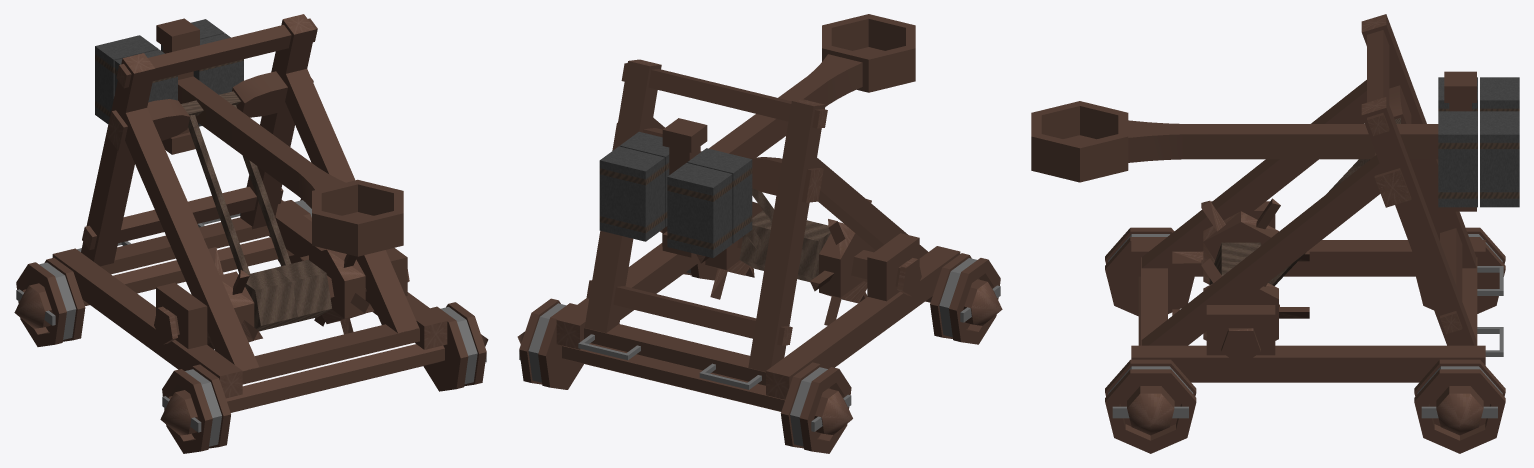
The model's file is CATAPULT.fbx.
The picture shows the model from 3 angles, left to right: view 1: azimuth 30°, elevation 25°; view 2: azimuth 150°, elevation 25°; view 3: azimuth 270°, elevation 25°; orthographic projection. The views are drawn at different scales.
Visible parts, largest first — view 1: Cube_8, Cube_11, Cube_9, Cube, Tube, Cube_6, Cylinder, Cylinder_2_5, Cylinder_4_3, Cylinder_5, Cube_1, Cube_12 (+18 smaller); view 2: Cube_6, Cube, Cube_11, Cube_7, Cube_14, Cube_16, Tube, Cylinder_4_3, Cylinder_2_5, Cylinder_1, Cube_2, Cylinder_6_3 (+14 smaller); view 3: Cube_11, Cube_5, Cube_9, Tube, Cube_7, Cylinder_8, Cylinder_6_3, Cube_8, Cube, Cube_6, Cube_14, Cube_11_4 (+14 smaller).
Boxes of the visible parts, box(x1,y1,x2,y2) form: Cube_8: box(118, 106, 258, 370); Cube_11: box(156, 18, 345, 208); Cube_9: box(284, 69, 419, 333); Cube: box(52, 248, 242, 398); Tube: box(312, 179, 403, 256); Cube_6: box(81, 53, 155, 266); Cylinder: box(226, 344, 444, 412); Cylinder_2_5: box(160, 364, 230, 453); Cylinder_4_3: box(14, 257, 85, 346); Cylinder_5: box(245, 259, 331, 331); Cube_1: box(242, 324, 419, 384); Cube_12: box(116, 18, 317, 88); Cube_6: box(748, 99, 825, 371); Cube: box(766, 246, 960, 399); Cube_11: box(662, 54, 862, 257); Cube_7: box(584, 59, 661, 332); Cube_14: box(599, 146, 664, 241); Cube_16: box(667, 163, 732, 257); Tube: box(822, 14, 915, 92); Cylinder_4_3: box(780, 362, 852, 453); Cylinder_2_5: box(930, 253, 1002, 344); Cylinder_1: box(562, 343, 784, 411); Cube_2: box(584, 324, 765, 385); Cylinder_6_3: box(517, 298, 583, 389); Cube_11: box(1128, 71, 1476, 211); Cube_5: box(1131, 345, 1485, 382); Cube_9: box(1141, 155, 1394, 345); Tube: box(1031, 101, 1128, 182); Cube_7: box(1361, 97, 1476, 345); Cylinder_8: box(1105, 359, 1196, 453); Cylinder_6_3: box(1414, 359, 1505, 453); Cube_8: box(1141, 80, 1395, 278); Cube: box(1131, 240, 1485, 276); Cube_6: box(1361, 14, 1476, 268); Cube_14: box(1480, 111, 1519, 207); Cube_11_4: box(1438, 111, 1477, 207).
Size of the model in its own units: 459 by 404 by 558.
Materials: 8 (6 with a texture image).
